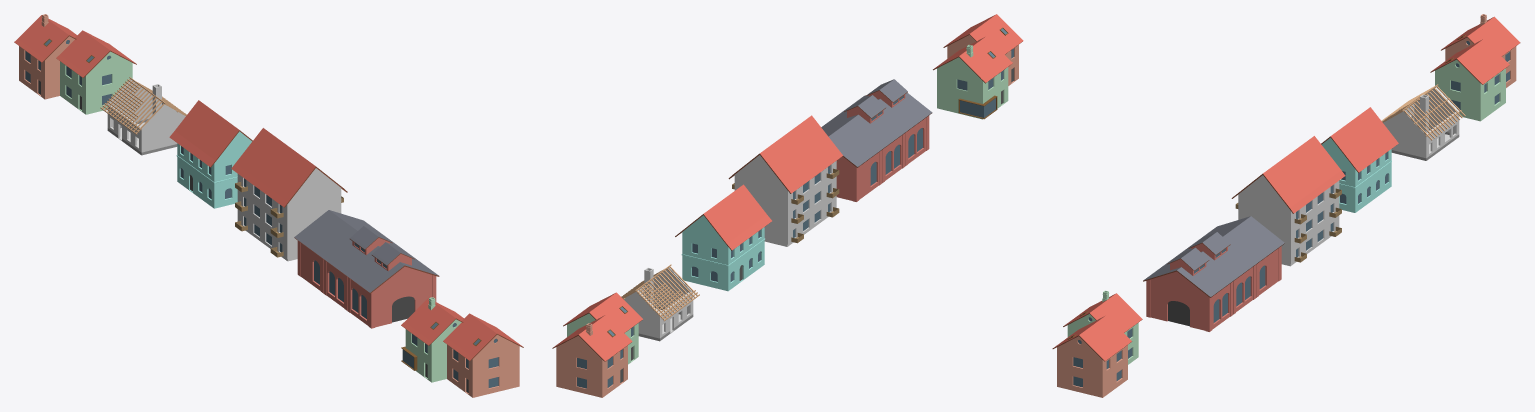
File: miniture_houses.fbx
The picture shows the model from 3 angles, left to right: view 1: azimuth 30°, elevation 25°; view 2: azimuth 150°, elevation 25°; view 3: azimuth 330°, elevation 25°; orthographic projection. The views are drawn at different scales.
Visible parts, largest first — view 1: Cube.006, Cube.004, Cube.039, Cube, Cube.001, Cube.020, Cube.021; view 2: Cube.004, Cube.006, Cube, Cube.039, Cube.021, Cube.020, Cube.001; view 3: Cube.006, Cube.004, Cube.039, Cube, Cube.001, Cube.020, Cube.021.
Part boxes in pixels (x1,y1,x2,y2): Cube.006: (294, 210, 439, 328); Cube.004: (231, 128, 347, 261); Cube.039: (14, 14, 136, 114); Cube: (169, 100, 252, 208); Cube.001: (443, 313, 523, 397); Cube.020: (100, 77, 186, 155); Cube.021: (401, 297, 463, 382); Cube.004: (728, 115, 842, 246); Cube.006: (821, 79, 932, 201); Cube: (675, 184, 771, 291); Cube.039: (552, 292, 642, 397); Cube.021: (933, 36, 1012, 119); Cube.020: (621, 264, 699, 341); Cube.001: (943, 14, 1023, 85); Cube.006: (1143, 216, 1284, 331); Cube.004: (1231, 136, 1345, 266); Cube.039: (1430, 14, 1520, 121); Cube: (1321, 107, 1398, 212); Cube.001: (1052, 315, 1131, 397); Cube.020: (1381, 84, 1465, 160); Cube.021: (1063, 290, 1142, 364).
Bounding box in the file's own units: 347 × 370 × 3263.
